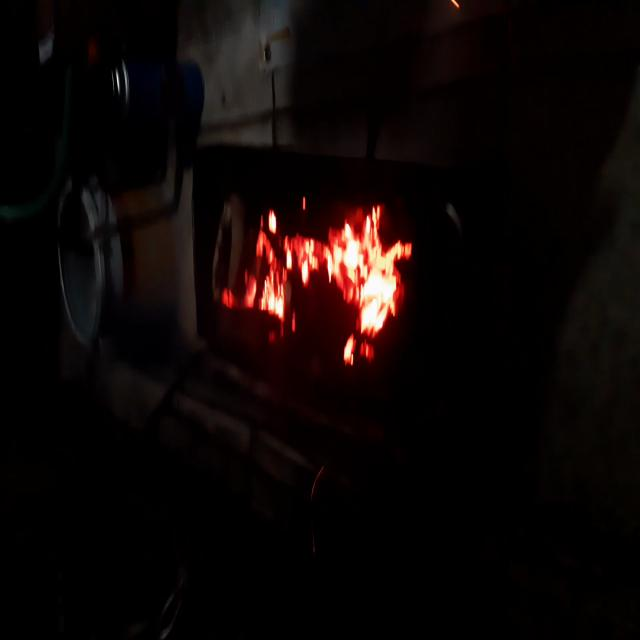Fire: (234, 184, 418, 379)
